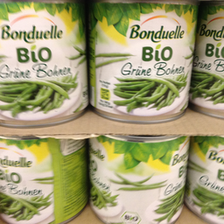beans: (89, 1, 197, 126), (1, 2, 85, 127), (87, 135, 189, 224), (1, 134, 84, 221)
